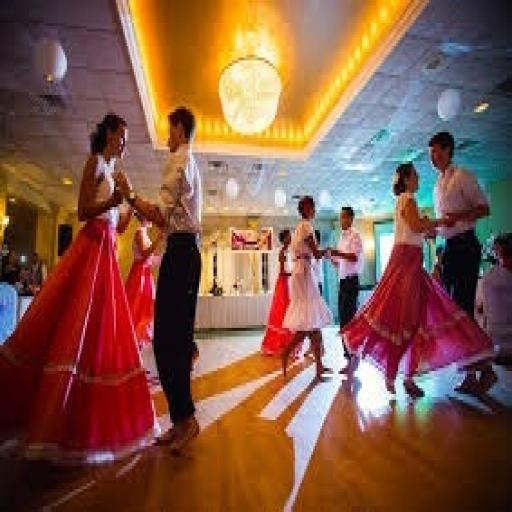dancing: (2, 96, 236, 496), (253, 103, 512, 426)
